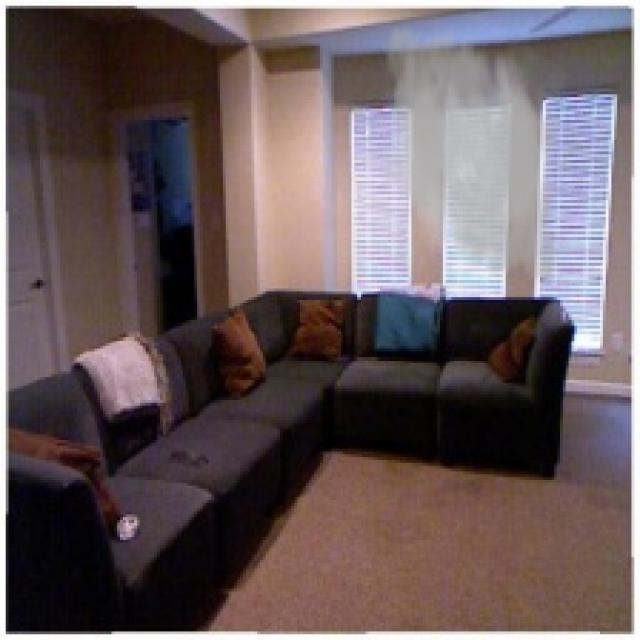smoke: (372, 15, 577, 292)
